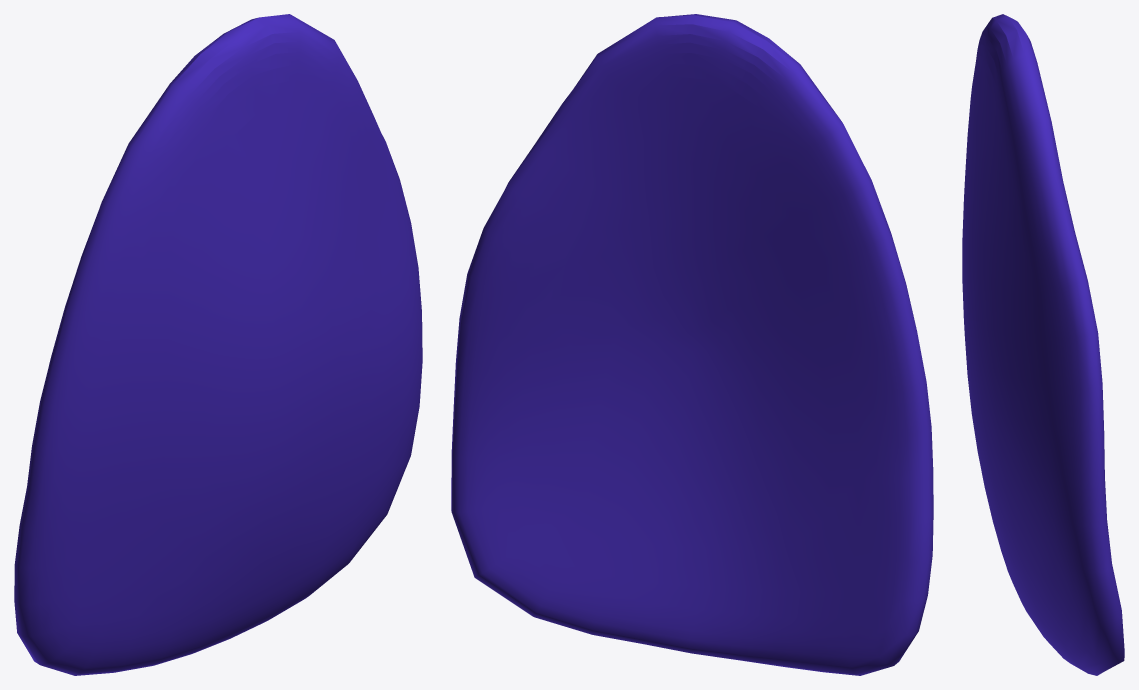
Rendered from TR1_Enamel_Diamond.001.glb.
3 views of the same model, side by side, from view 1: azimuth 30°, elevation 25°; view 2: azimuth 150°, elevation 25°; view 3: azimuth 270°, elevation 25° (orthographic). The views are drawn at different scales.
Visible parts, largest first — view 1: TR1_Enamel_Diamond.001; view 2: TR1_Enamel_Diamond.001; view 3: TR1_Enamel_Diamond.001.
Part boxes in pixels (box(x1,y1,x2,y2)): TR1_Enamel_Diamond.001: box(14, 14, 422, 675); TR1_Enamel_Diamond.001: box(451, 14, 933, 675); TR1_Enamel_Diamond.001: box(962, 14, 1124, 675).
Bounding box in the file's own units: 0.755 × 1.03 × 0.2484.
